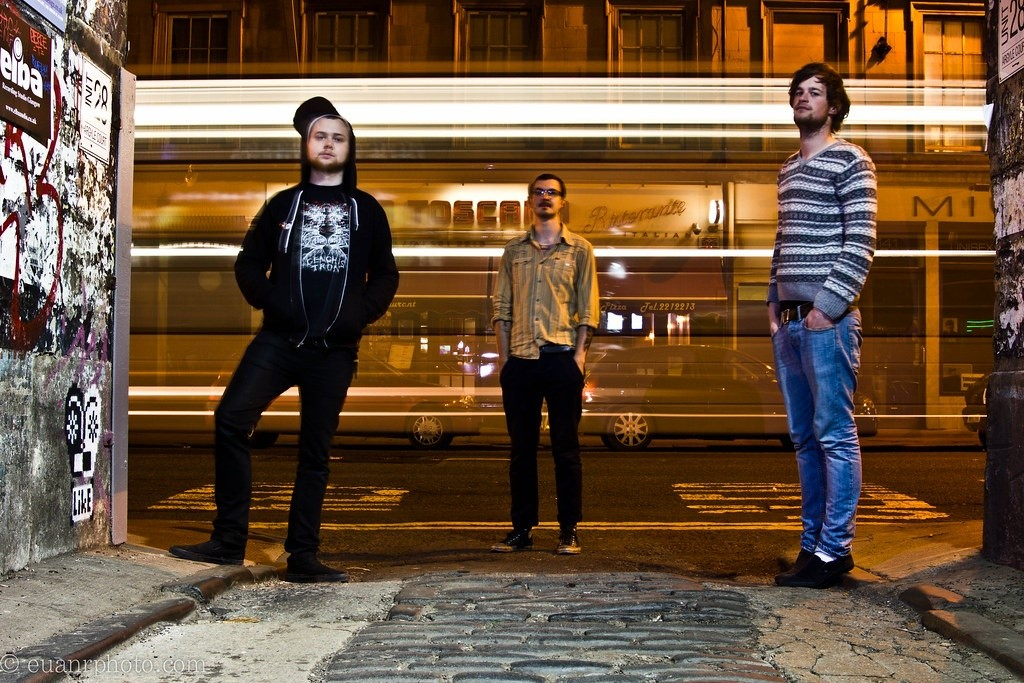face_no_mask: (789, 63, 848, 131), (299, 111, 355, 175), (527, 171, 565, 220)
